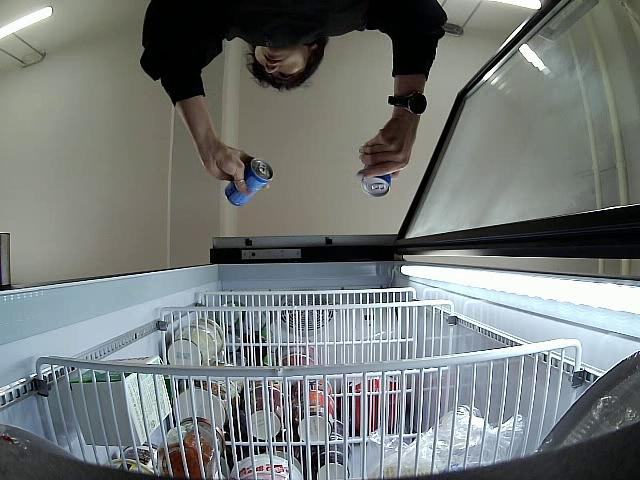00_hand: (356, 124, 412, 179), (204, 144, 256, 194)
15_letsbe: (226, 158, 274, 208), (362, 161, 392, 199)
